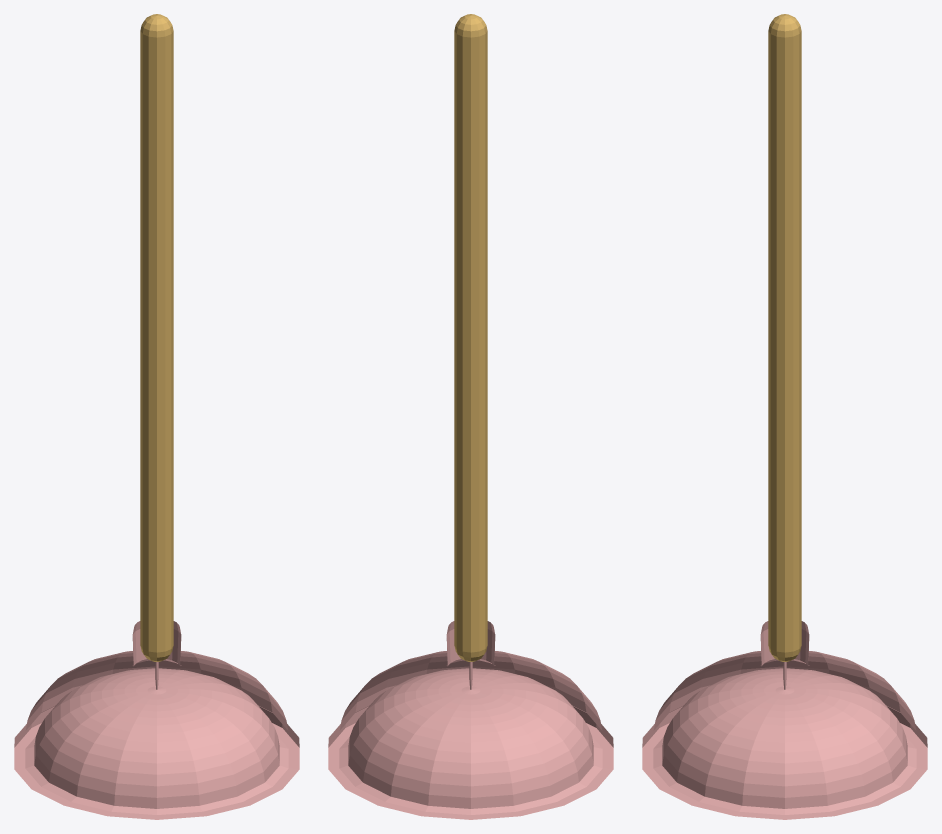
File: 491fe822-fc21-4958-addc-84ddf335d419.glb
3 views of the same model, side by side, from view 1: azimuth 30°, elevation 25°; view 2: azimuth 150°, elevation 25°; view 3: azimuth 270°, elevation 25° (orthographic).
Visible parts, largest first — view 1: end, Handle; view 2: end, Handle; view 3: end, Handle.
Part boxes in pixels (x1,y1,x2,y2): end: (14,621,299,819); Handle: (140,14,173,661); end: (328,621,613,819); Handle: (454,14,487,661); end: (642,621,927,819); Handle: (768,14,801,661).
Bounding box in the file's own units: 136 × 385 × 134.
